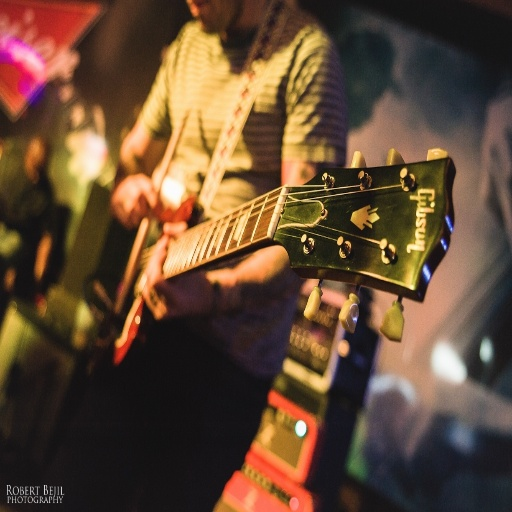hand: (140, 220, 204, 320), (109, 174, 157, 228)
